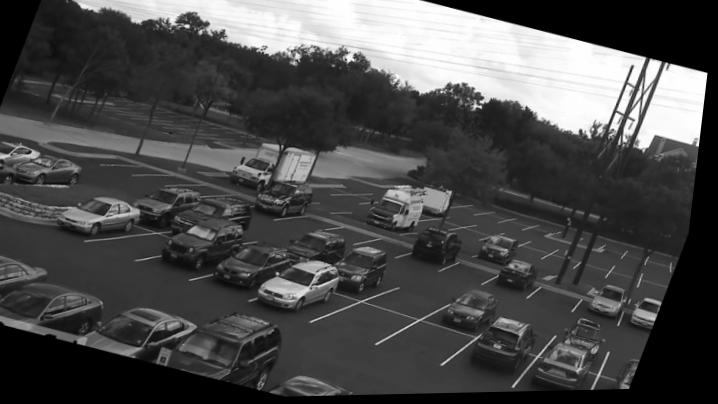empty: (323, 306, 420, 351), (374, 272, 458, 317), (399, 324, 482, 364), (93, 230, 176, 264), (532, 286, 591, 318), (521, 311, 564, 340), (331, 224, 384, 247), (450, 264, 501, 287), (284, 215, 341, 232), (372, 234, 416, 255), (622, 339, 655, 363), (578, 266, 620, 283), (249, 226, 290, 243), (545, 257, 587, 273), (643, 282, 676, 302), (121, 164, 174, 176), (612, 275, 647, 293), (560, 248, 597, 265), (456, 229, 494, 244), (340, 195, 386, 207), (617, 265, 649, 282), (190, 184, 235, 196), (626, 252, 657, 269), (533, 239, 568, 254), (649, 272, 678, 289), (606, 246, 636, 262), (524, 247, 557, 261), (590, 258, 623, 272), (477, 222, 510, 236), (653, 257, 677, 276), (508, 232, 541, 245), (533, 226, 568, 238), (427, 220, 465, 231), (450, 215, 484, 227), (462, 240, 486, 257), (151, 178, 200, 185), (538, 264, 559, 280), (506, 220, 538, 230), (485, 214, 514, 224), (461, 208, 492, 216)
occupied: (159, 313, 293, 390), (79, 307, 208, 361), (0, 281, 109, 337), (262, 259, 349, 319), (471, 319, 547, 376), (214, 241, 297, 293), (172, 219, 249, 273), (538, 340, 606, 393), (61, 199, 146, 237), (371, 188, 430, 233), (445, 291, 505, 335), (259, 179, 318, 223), (141, 189, 204, 229), (277, 371, 367, 398), (0, 249, 53, 294), (342, 251, 395, 296), (414, 229, 469, 269), (19, 154, 86, 186), (292, 234, 353, 265), (186, 200, 256, 226), (502, 262, 546, 295), (577, 323, 613, 359), (485, 238, 525, 269), (596, 290, 634, 321), (638, 303, 670, 333), (626, 362, 649, 392), (0, 160, 20, 184)
